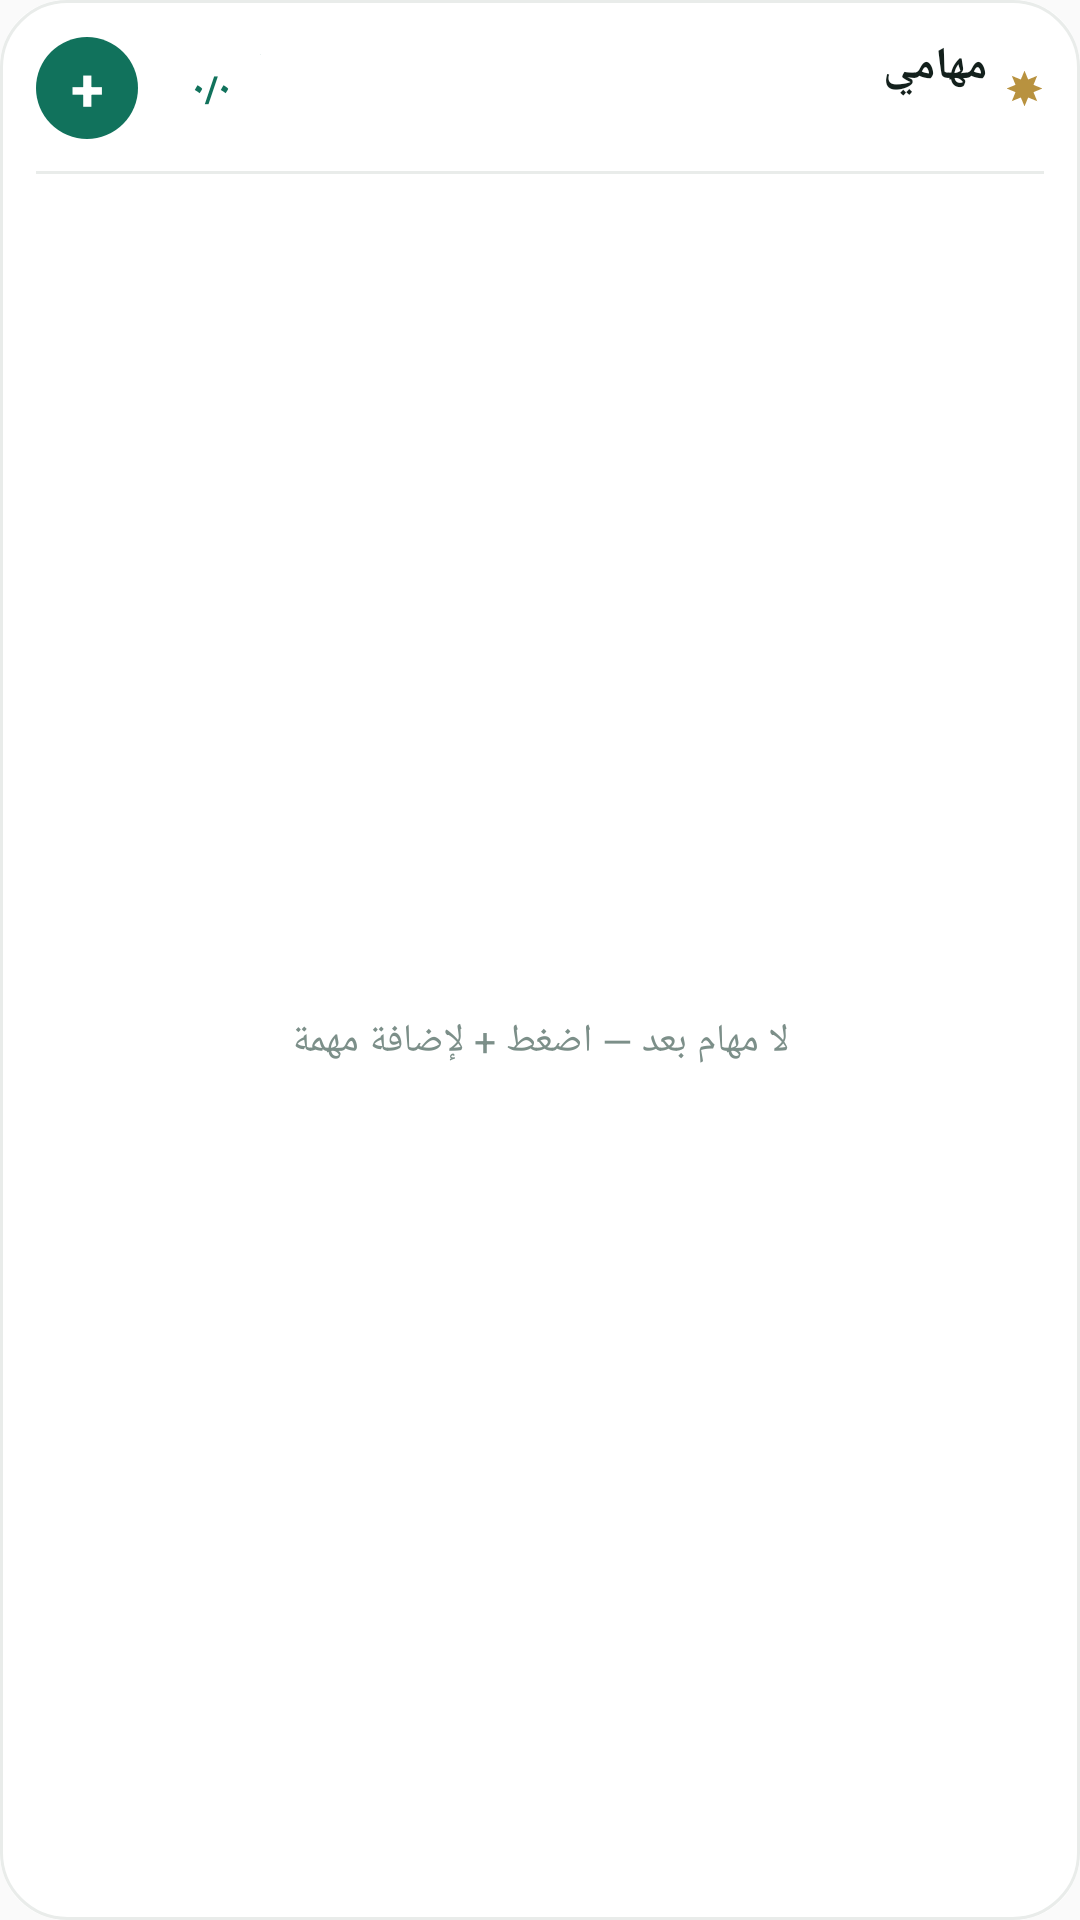

Icon bounding boxes for this 1080 x 1920 phone screenshot, format (left=x1, top=y1, right=x2, bottom=y2):
star: (left=1007, top=71, right=1042, bottom=106)
